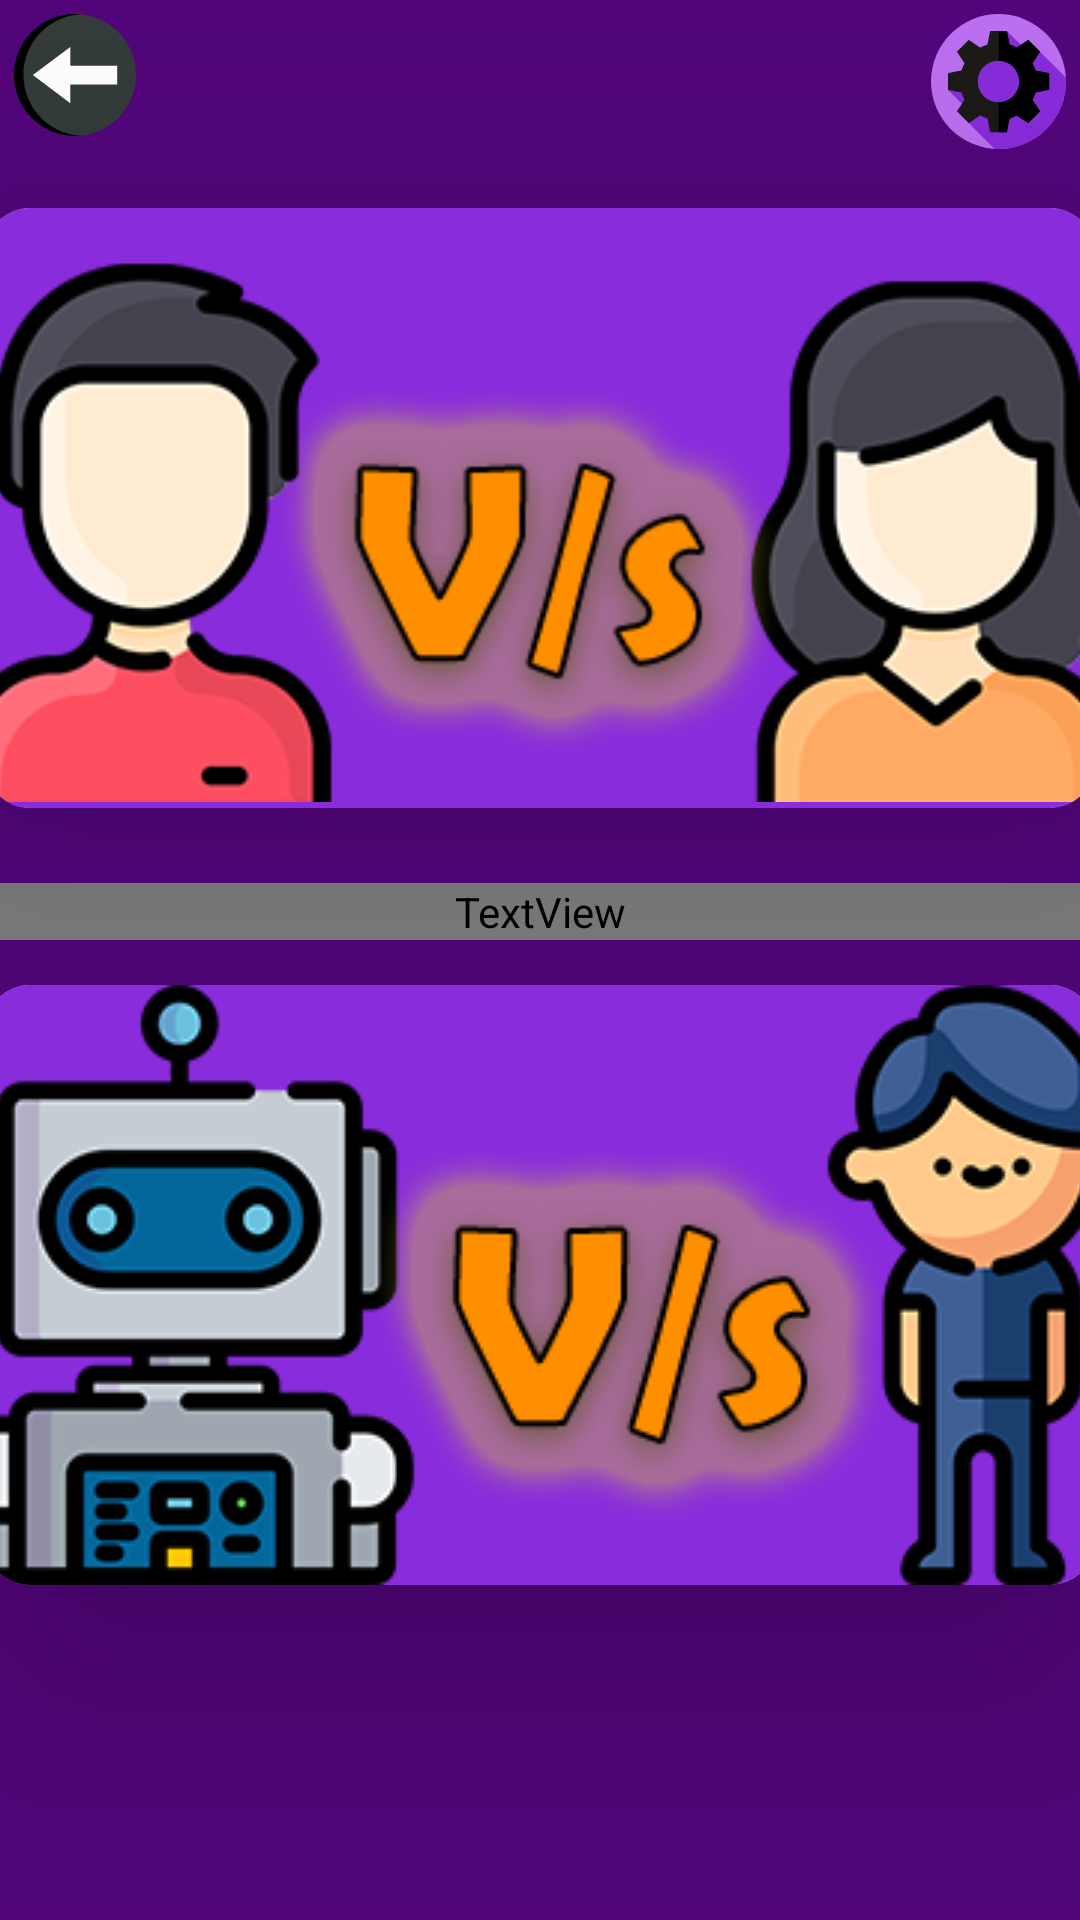

Where icons sit on this 1080x1920 app screen, as (x1, y1, x2, y2):
customusersetting: (931, 14, 1066, 149)
